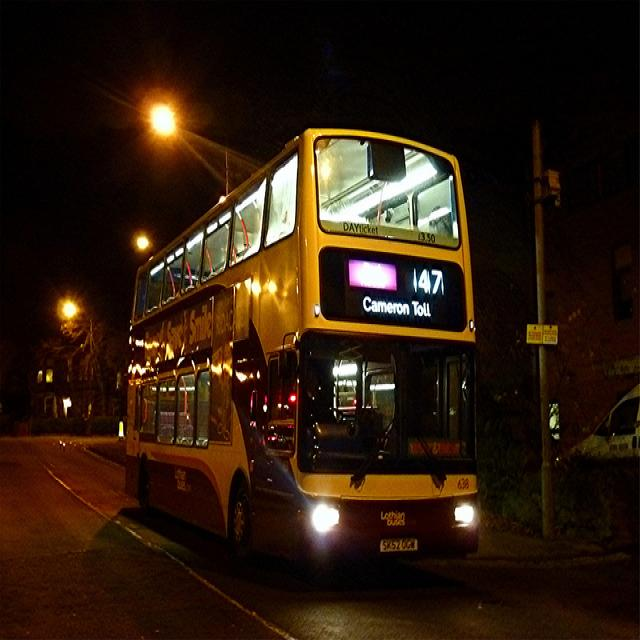Bus: (106, 112, 514, 587)
car: (565, 346, 640, 511)
